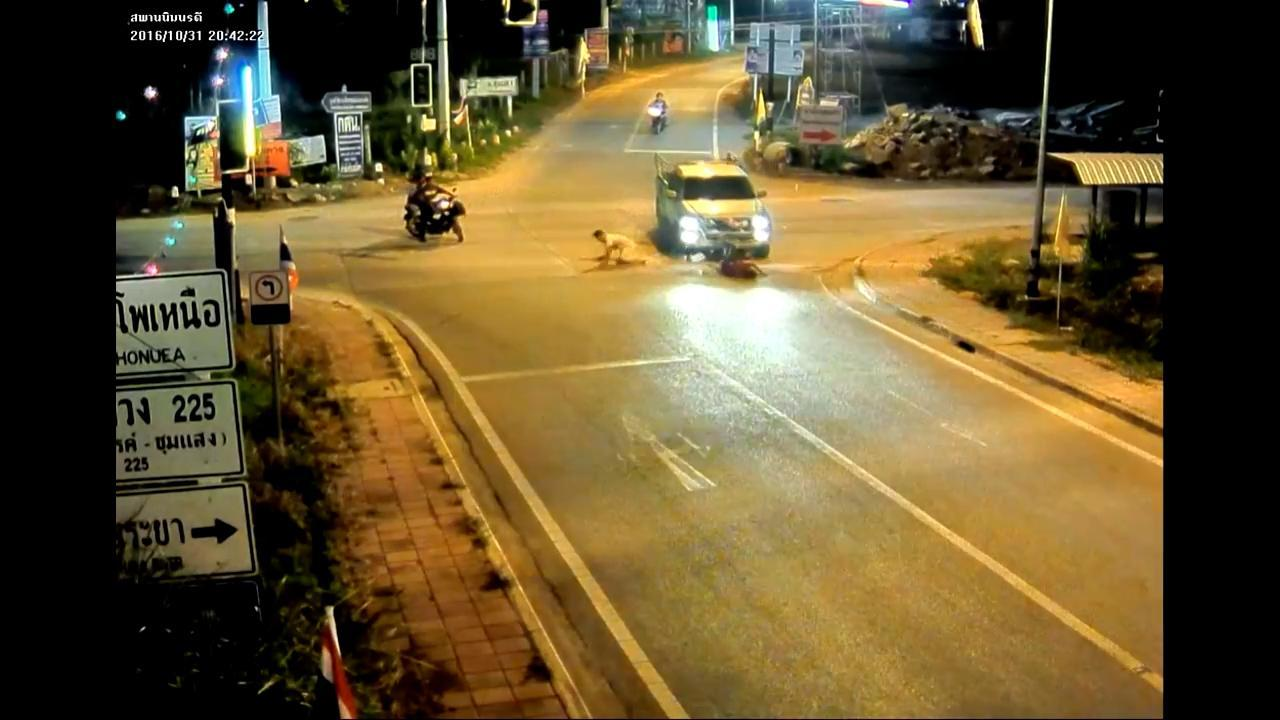accident: (590, 222, 653, 269)
